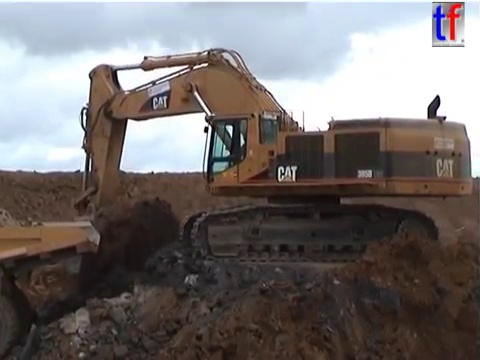excavator: (62, 44, 475, 283)
truck: (1, 216, 103, 360)
